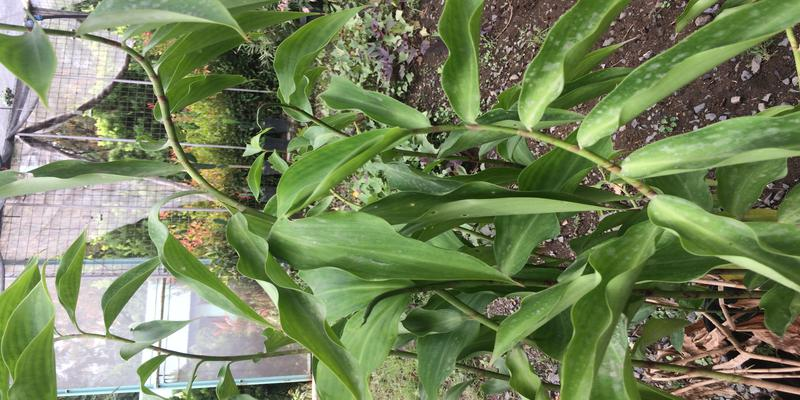Insulin: (242, 150, 795, 394)
